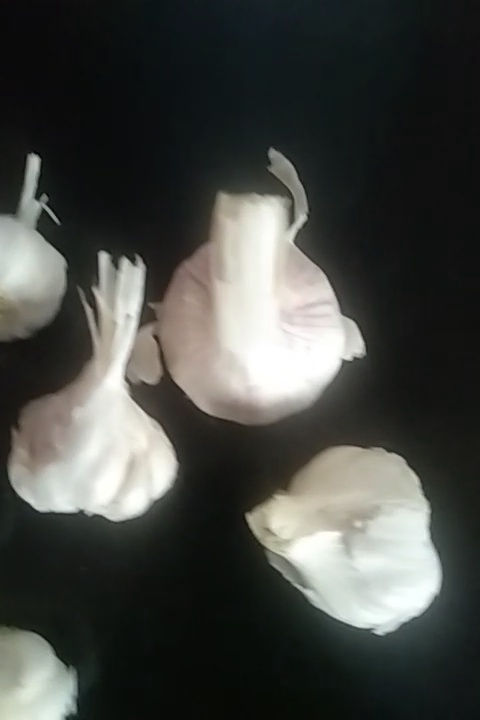garlic: (138, 180, 366, 426), (19, 256, 168, 527), (266, 437, 448, 645), (1, 158, 74, 348), (1, 627, 104, 715)
